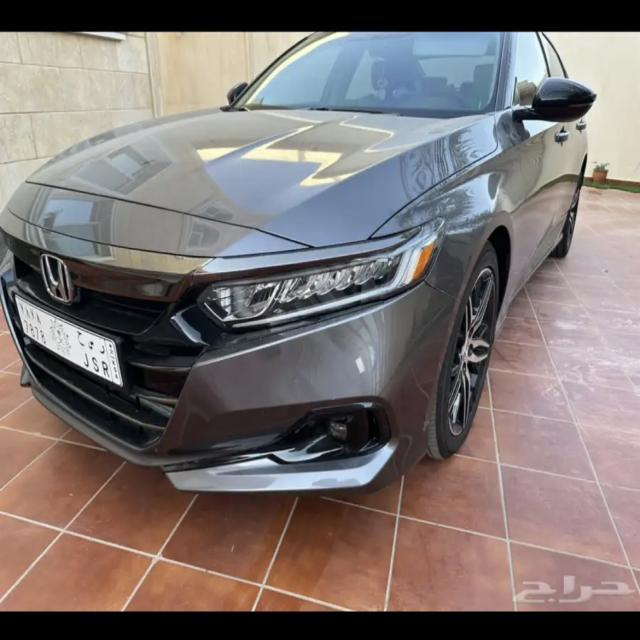license_plate: (13, 294, 126, 392)
